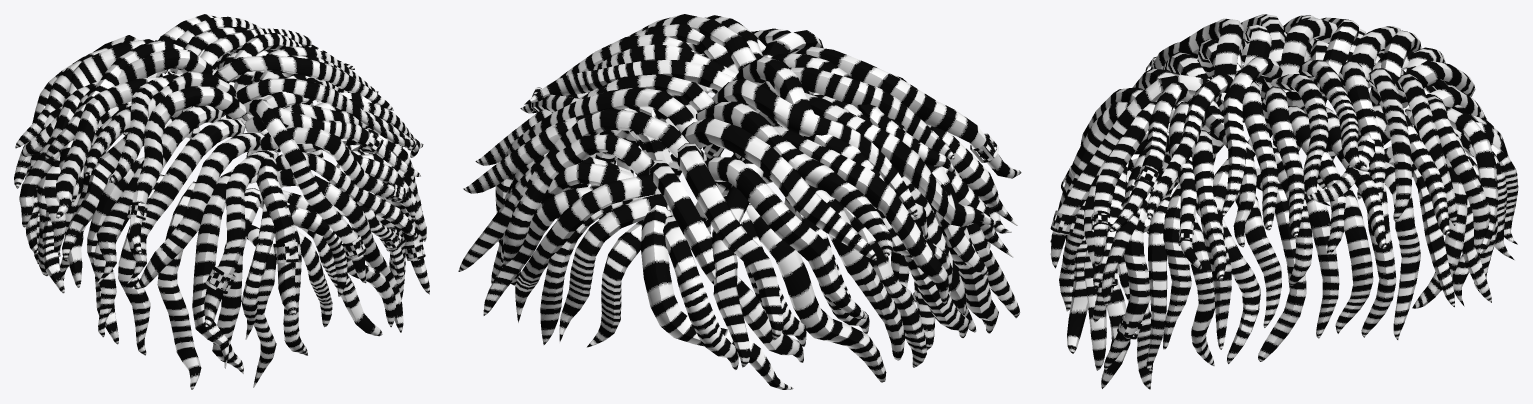
File: au-zoobles-black-and-white-dread-hair.glb
The picture shows the model from 3 angles, left to right: view 1: azimuth 30°, elevation 25°; view 2: azimuth 150°, elevation 25°; view 3: azimuth 270°, elevation 25°; orthographic projection. The views are drawn at different scales.
Visible parts, largest first — view 1: Mesh_0017_Tex_0008_0.dds_0_4; view 2: Mesh_0017_Tex_0008_0.dds_0_4; view 3: Mesh_0017_Tex_0008_0.dds_0_4.
Boxes of the visible parts, x1,y1,x2,y2 form: Mesh_0017_Tex_0008_0.dds_0_4: [14, 14, 429, 389]; Mesh_0017_Tex_0008_0.dds_0_4: [458, 14, 1021, 389]; Mesh_0017_Tex_0008_0.dds_0_4: [1050, 14, 1518, 389].
Bounding box in the file's own units: 0.9786 × 0.6974 × 0.9649.
1 material, 1 textured.
